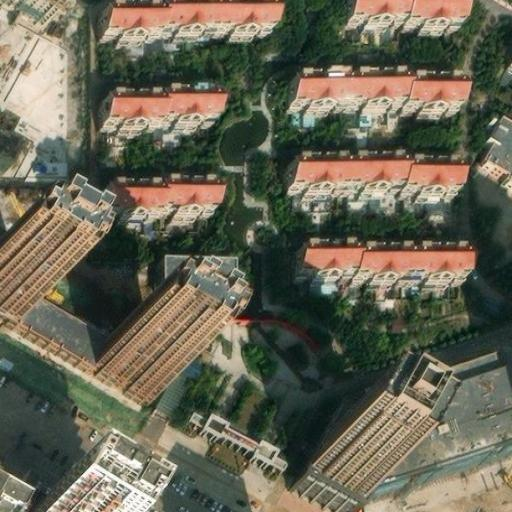building: (327, 344, 512, 475), (178, 397, 288, 476), (24, 289, 124, 361), (303, 424, 382, 498), (101, 330, 175, 391), (286, 159, 398, 194), (353, 248, 466, 282), (289, 73, 402, 107), (156, 345, 208, 412), (477, 117, 512, 186), (100, 184, 162, 220), (97, 6, 162, 40), (292, 245, 353, 280), (105, 94, 161, 130), (401, 77, 460, 111), (160, 90, 215, 124), (398, 164, 456, 196), (161, 180, 216, 212), (344, 0, 401, 26), (37, 489, 93, 512), (135, 345, 148, 356)
